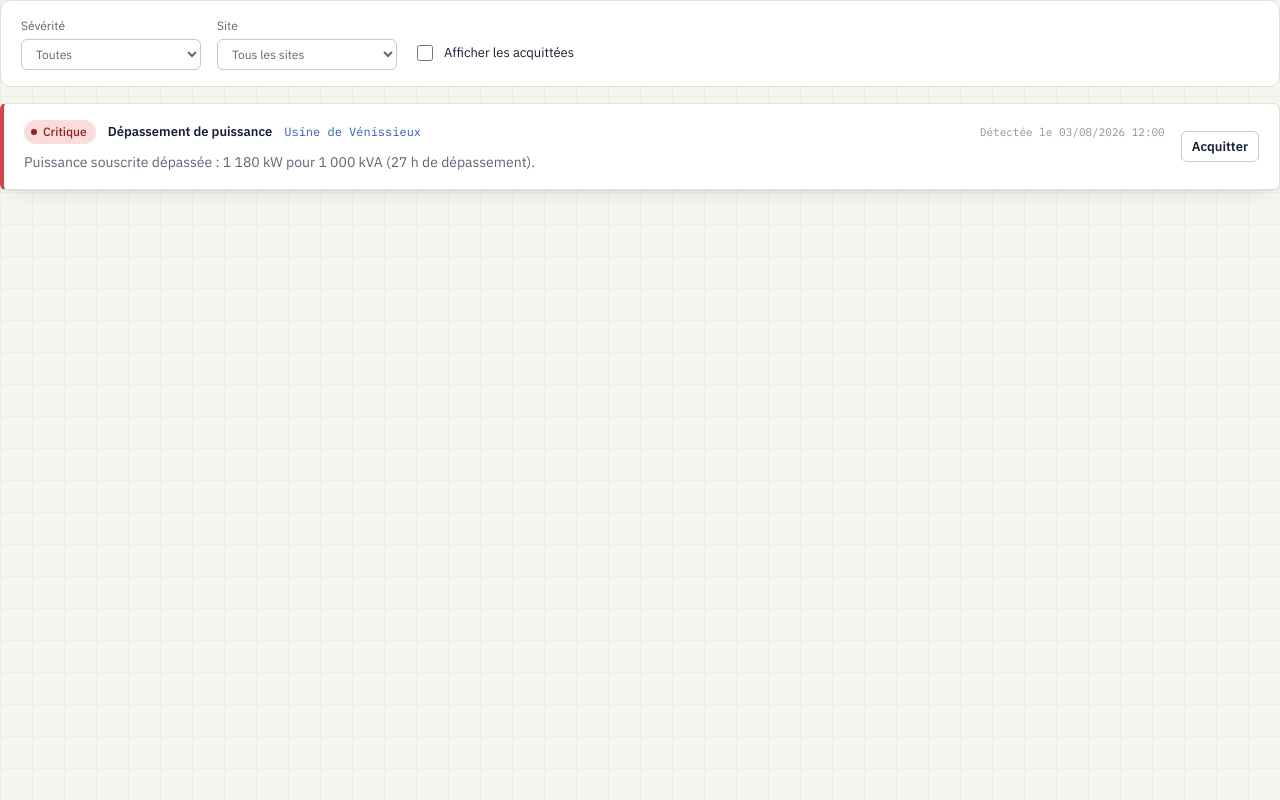
Test: AlertesPage › acknowledges an alert and shows a success toast
Click the button "Acquitter" at x=1220, y=147, box [1181,131,1259,162]
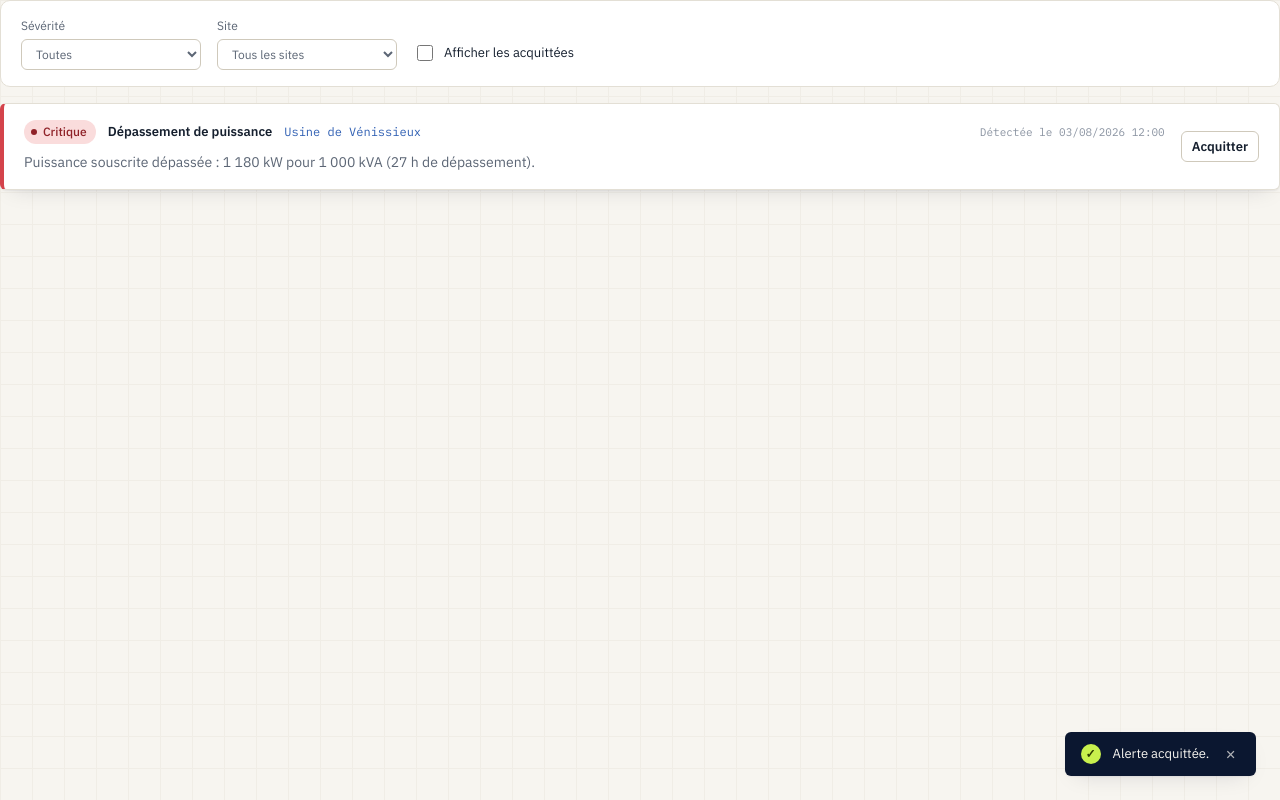
Expected: the text "Alerte acquittée." is shown, [1112,744,1209,764]
